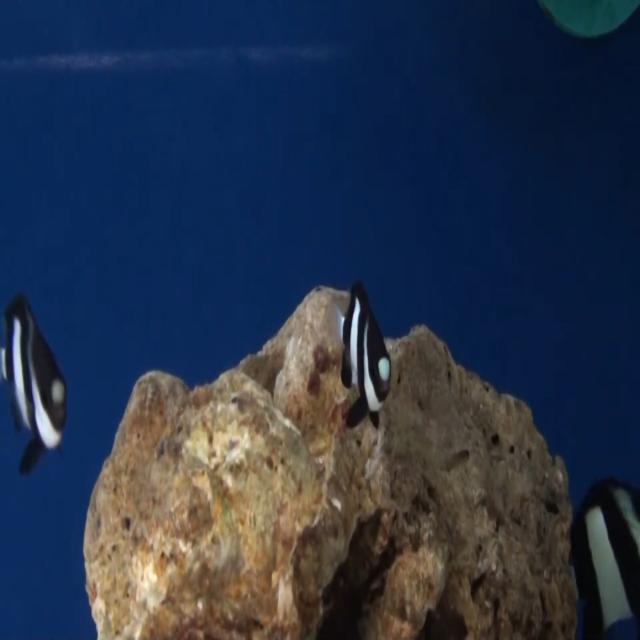ThreeStripedDamselfish: (1, 295, 67, 475), (337, 281, 392, 430)
